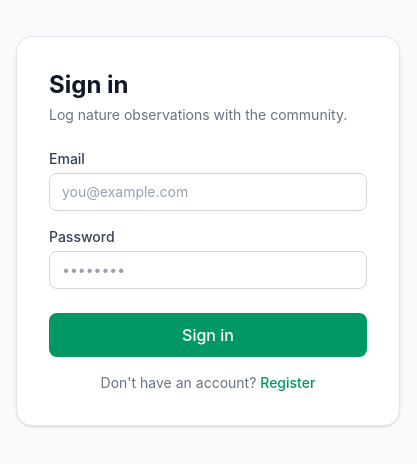
Test: AuthPage › shows validation errors on empty submit
Click the button "Sign in".
click(208, 335)  # box [49, 313, 367, 357]
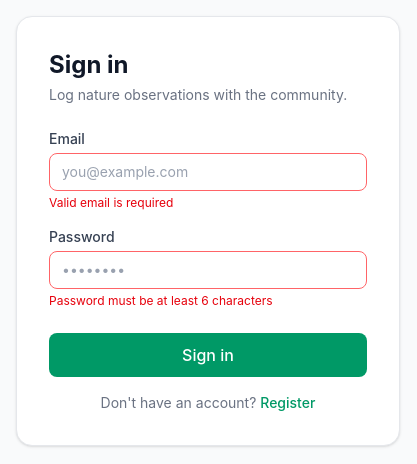
Expected: the text "Valid email is required" is shown, [49, 195, 173, 210]
